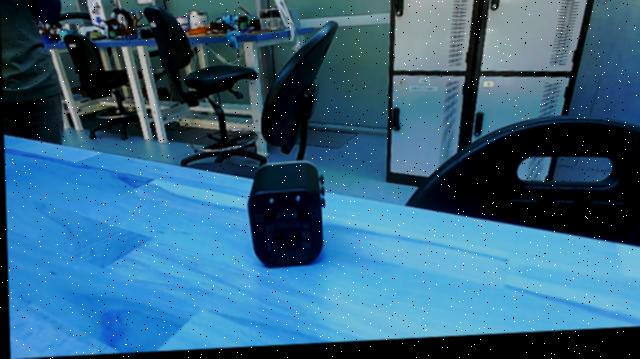adapter: (238, 157, 330, 282)
